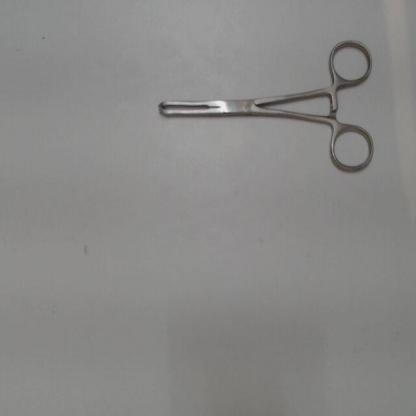Allis Tissue Forceps: (148, 34, 380, 185)
